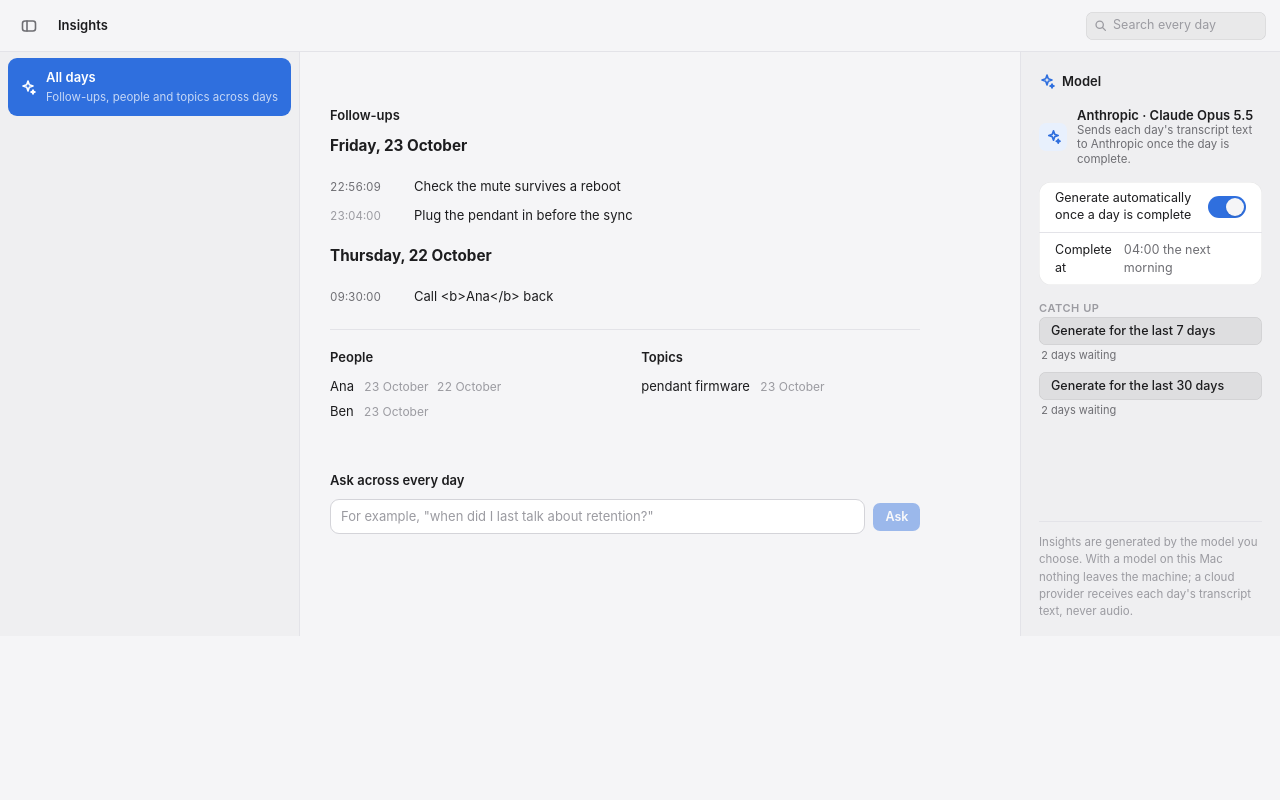
Test: a refused range says why
Step 1. Click the button "Generate for the last 7 days" → coordinates (1150, 331), box [1039,317,1262,345]
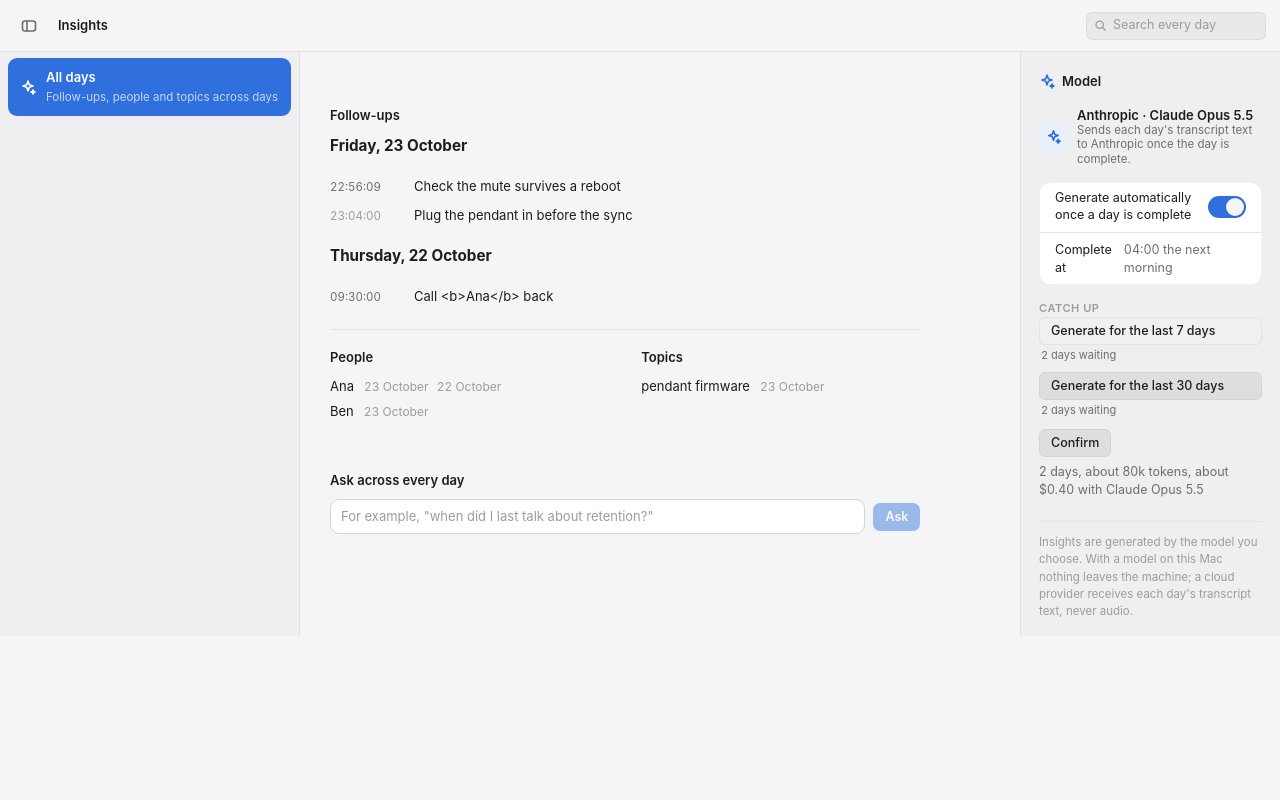
Step 2. Click the button "Confirm" → coordinates (1075, 443), box [1039,429,1111,457]
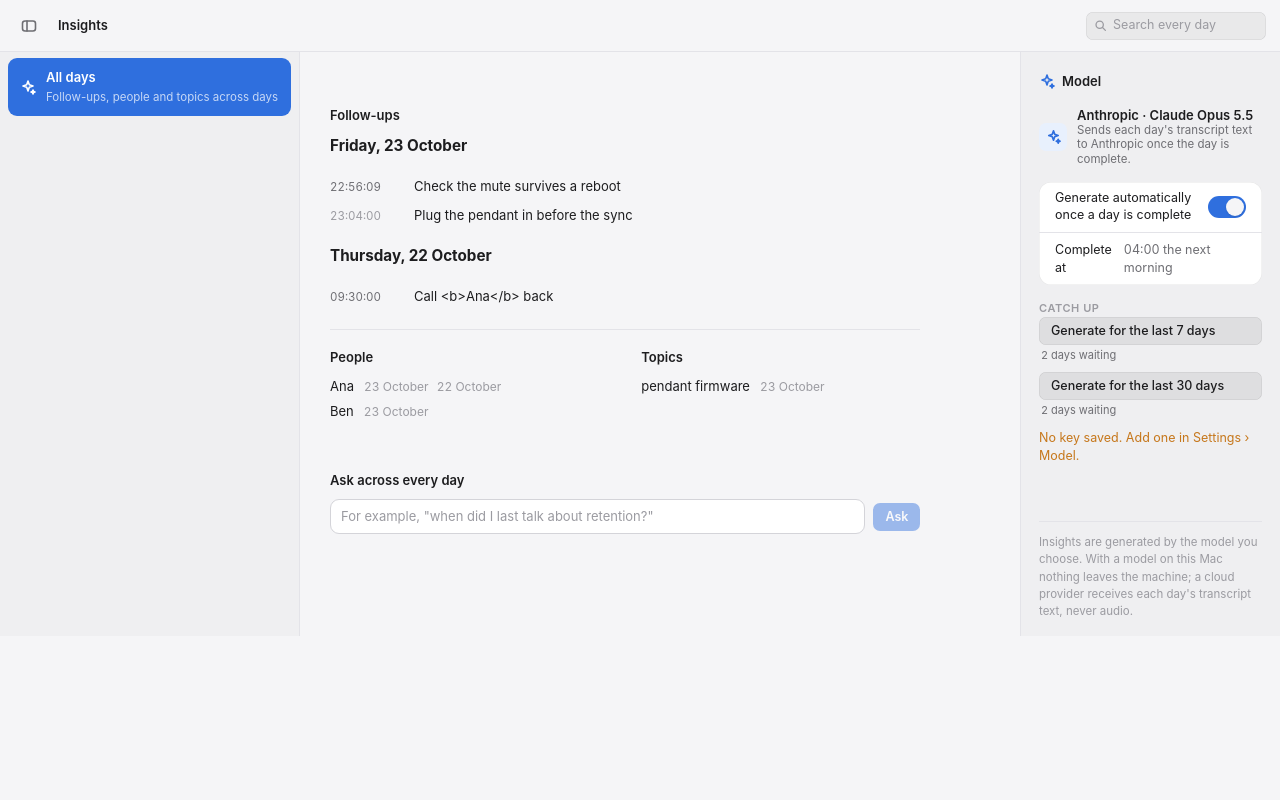
Result: the message reads "No key saved. Add one in Settings › Model." at [1039,430,1249,463]
